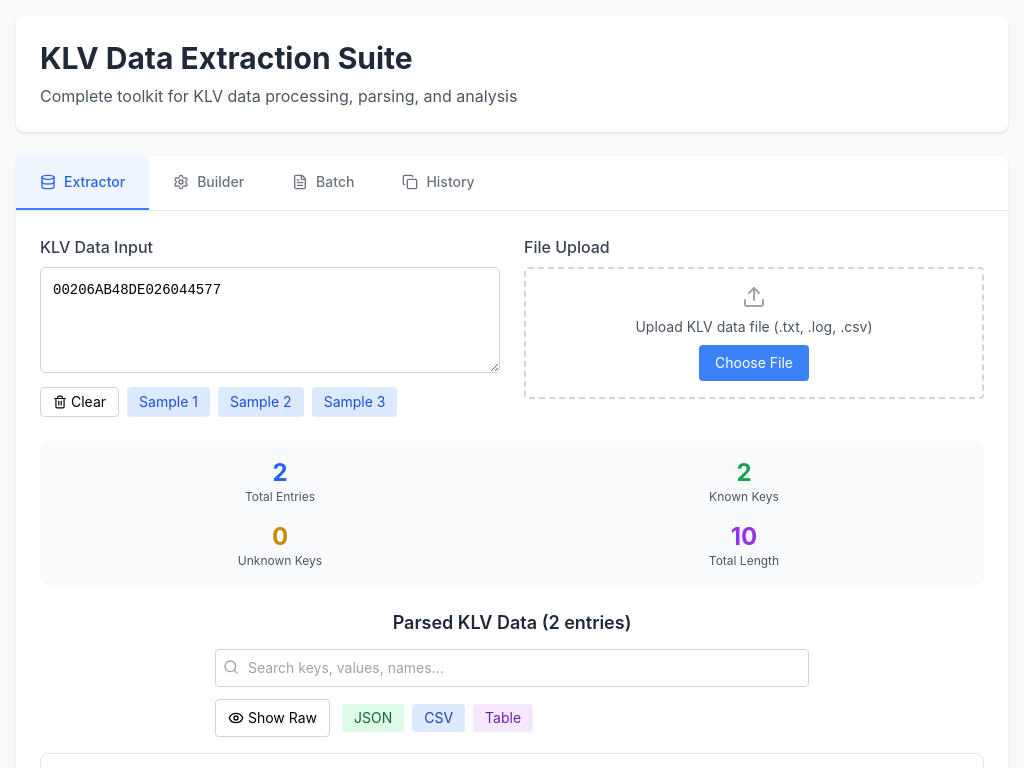
it: App Integration Tests › Tab Navigation › should switch to batch tab when clicked
Click the button "Batch". click: click(323, 183)
box: [268,156,378,210]
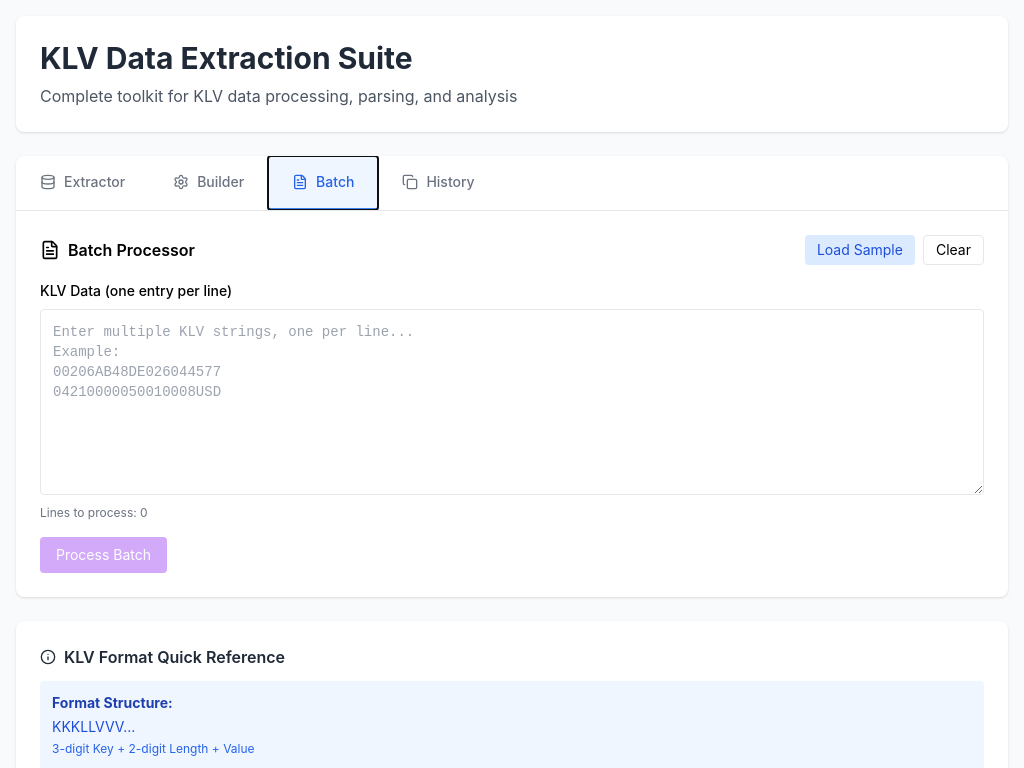
Result: the heading "Batch Processor" is shown at [40,238,195,262]
